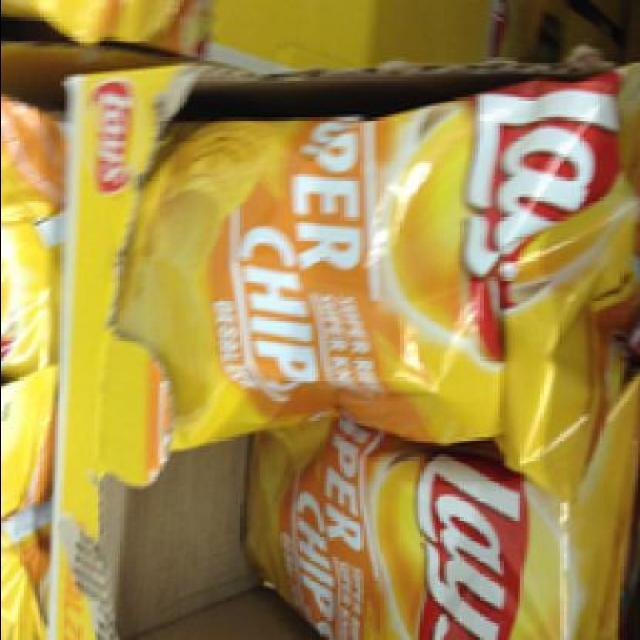Chips: (117, 69, 629, 460), (253, 394, 636, 637)
